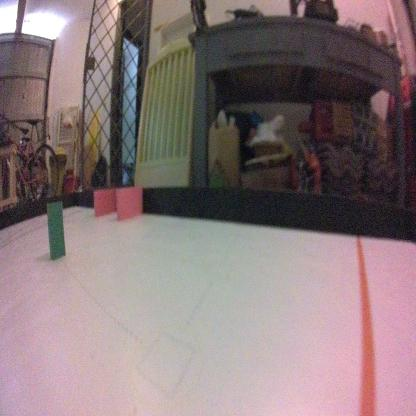green: (46, 200, 66, 256)
magenta: (113, 183, 142, 228), (93, 186, 116, 220)
